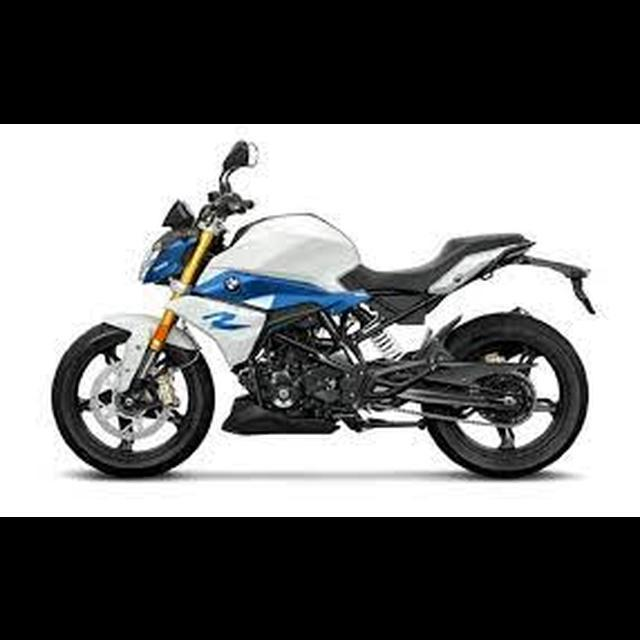motorcycle: (49, 137, 604, 480)
